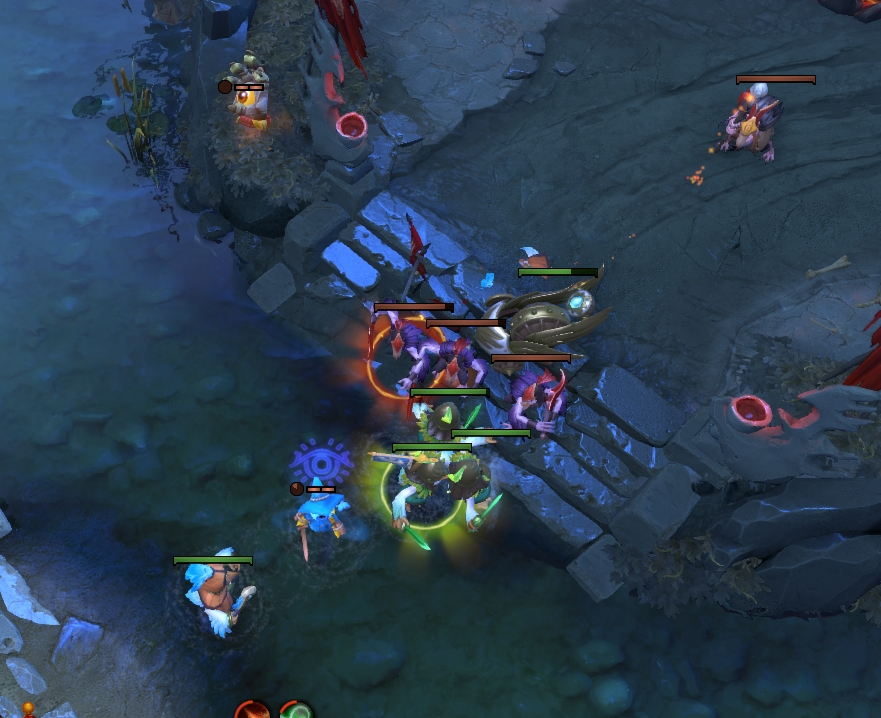allyCreep: (509, 263, 605, 280), (444, 424, 533, 440), (399, 382, 491, 397), (384, 439, 477, 452), (166, 555, 259, 564)
enemyCreep: (366, 299, 464, 316), (728, 72, 823, 88), (421, 313, 508, 329), (485, 350, 574, 365)
